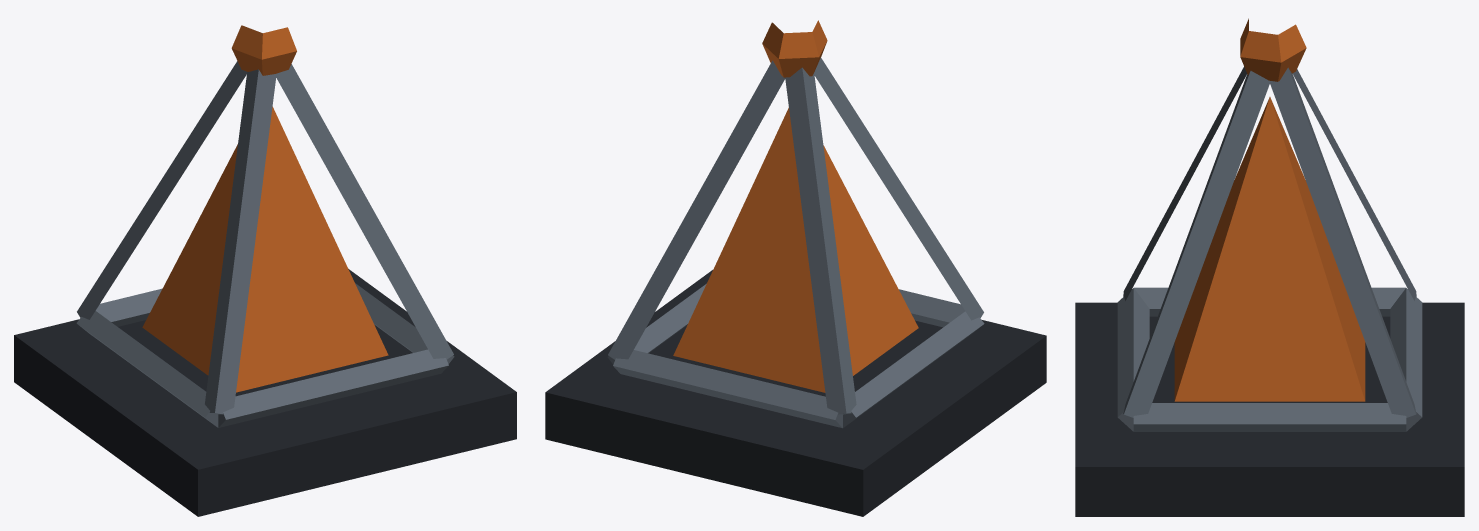
File: holocron-sith.lod.glb
3 views of the same model, side by side, from view 1: azimuth 30°, elevation 25°; view 2: azimuth 150°, elevation 25°; view 3: azimuth 270°, elevation 25° (orthographic). The views are drawn at different scales.
Parts seen in each view (by area): view 1: m; view 2: m; view 3: m.
Boxes of the visible parts, box(x1,y1,x2,y2) form: m: box(14, 25, 516, 516); m: box(545, 20, 1046, 516); m: box(1075, 18, 1464, 516).
Size of the model in its own units: 0.084 by 0.0977 by 0.084.
